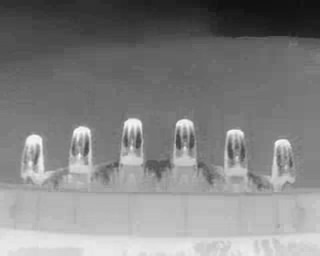claw: (172, 117, 198, 170), (18, 133, 46, 180), (119, 117, 145, 167), (224, 127, 248, 177), (69, 125, 93, 173), (273, 137, 295, 182)
